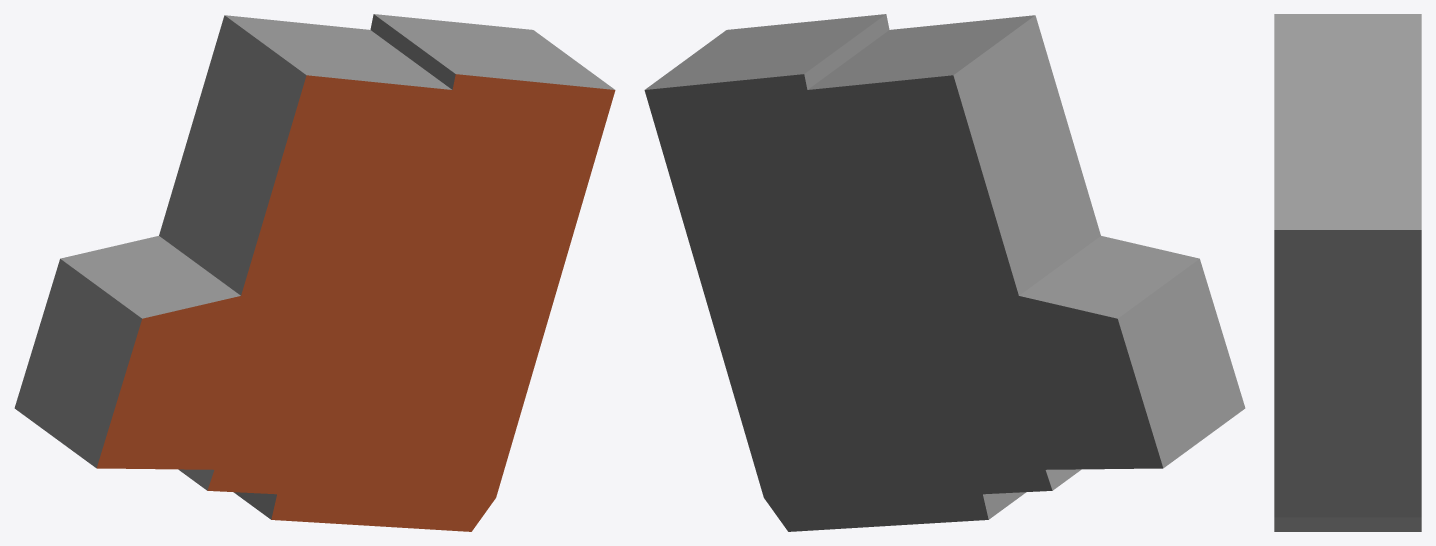
Rendered from construction_2966_assumed_A_Casa_h6m.obj.
3 views of the same model, side by side, from view 1: azimuth 30°, elevation 25°; view 2: azimuth 150°, elevation 25°; view 3: azimuth 270°, elevation 25° (orthographic). The views are drawn at different scales.
Visible parts, largest first — view 1: construction_2966_assumed_A_Casa; view 2: construction_2966_assumed_A_Casa; view 3: construction_2966_assumed_A_Casa.
Part boxes in pixels (x1,y1,x2,y2): construction_2966_assumed_A_Casa: [14, 14, 615, 531]; construction_2966_assumed_A_Casa: [644, 14, 1245, 531]; construction_2966_assumed_A_Casa: [1274, 14, 1421, 531].
Bounding box in the file's own units: 21.89 × 20.03 × 6.
